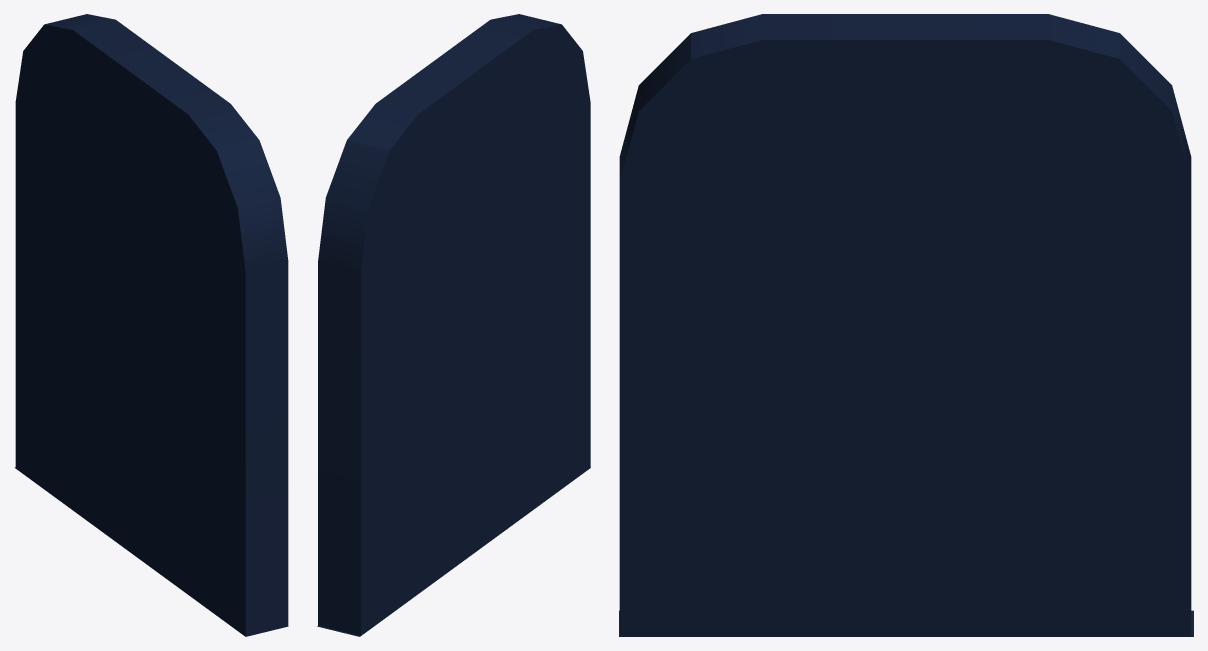
The model's file is puertaPerro.obj.
The picture shows the model from 3 angles, left to right: view 1: azimuth 30°, elevation 25°; view 2: azimuth 150°, elevation 25°; view 3: azimuth 270°, elevation 25°; orthographic projection. The views are drawn at different scales.
Parts seen in each view (by area): view 1: polySurface34; view 2: polySurface34; view 3: polySurface34.
Part boxes in pixels (bbox=[...]): polySurface34: bbox=[14, 14, 288, 636]; polySurface34: bbox=[317, 14, 590, 636]; polySurface34: bbox=[619, 14, 1193, 636].
Bounding box in the file's own units: 0.1567 × 1.68 × 1.47.
Materials: 1 (1 with a texture image).
